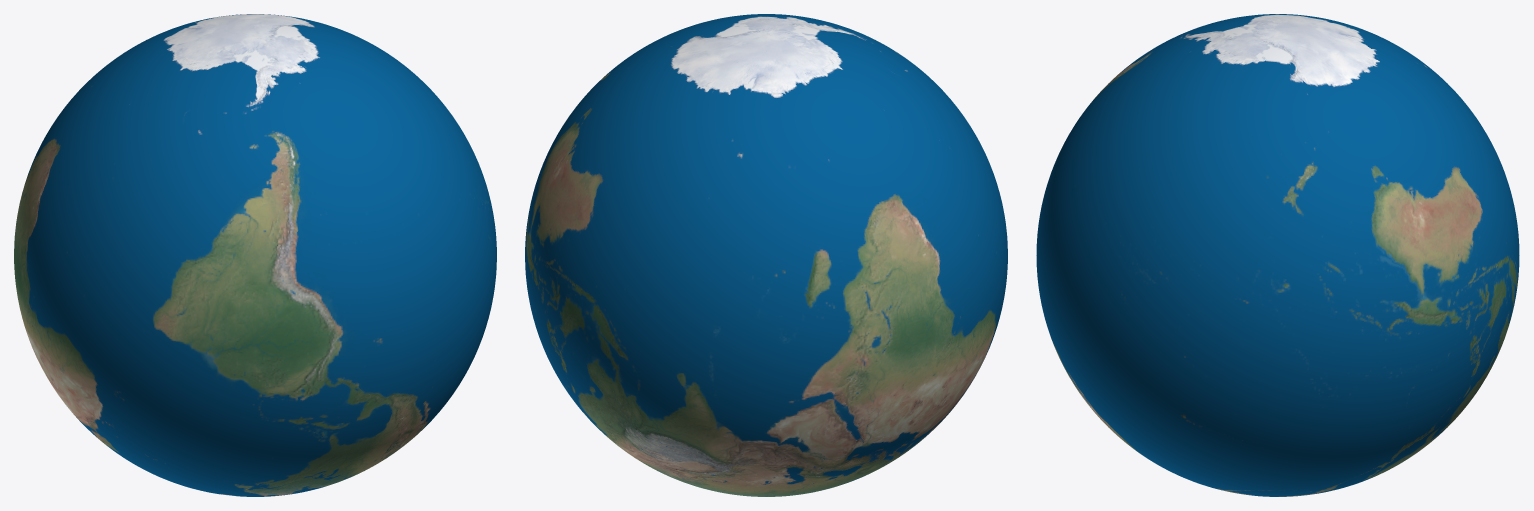
File: Earth.obj
3 views of the same model, side by side, from view 1: azimuth 30°, elevation 25°; view 2: azimuth 150°, elevation 25°; view 3: azimuth 270°, elevation 25° (orthographic).
Visible parts, largest first — view 1: Earth; view 2: Earth; view 3: Earth.
Boxes of the visible parts, <box> form: Earth: <box>14,14,496,496</box>; Earth: <box>525,14,1007,496</box>; Earth: <box>1036,14,1519,496</box>.
Size of the model in its own units: 2 by 2 by 2.
Materials: 1 (1 with a texture image).
